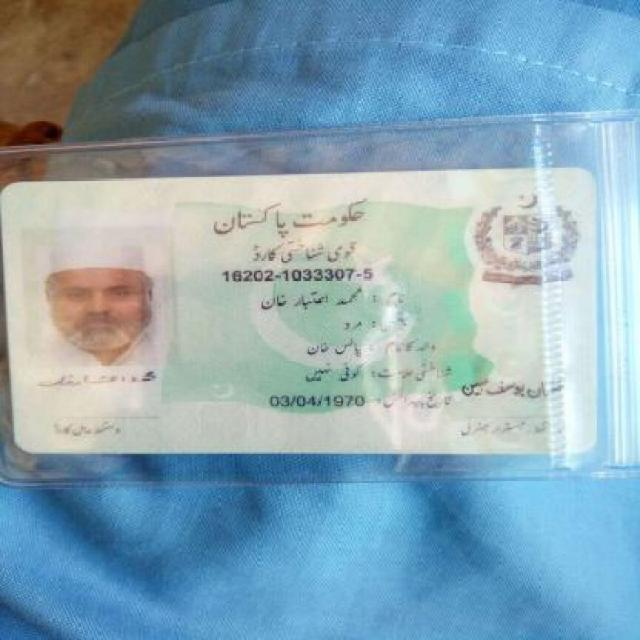Front: (6, 170, 603, 462)
